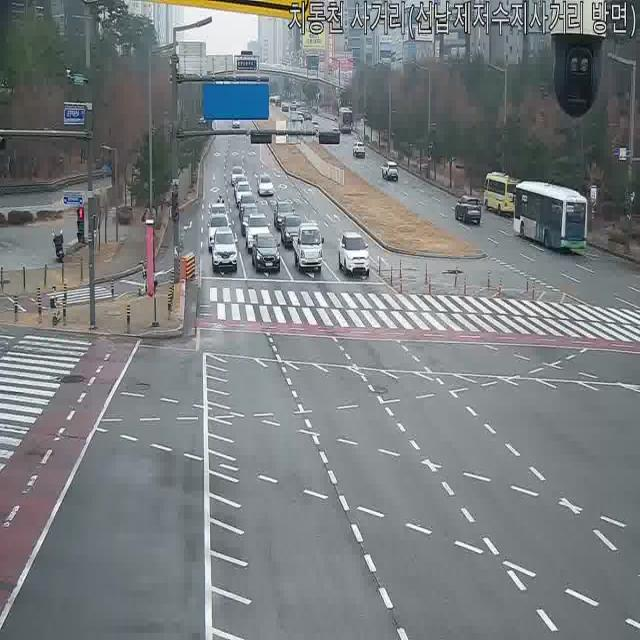Bus: (511, 180, 591, 255), (482, 171, 522, 217), (337, 106, 354, 135)
Car: (338, 230, 370, 278), (210, 228, 238, 274), (251, 232, 281, 274), (244, 213, 271, 252), (206, 214, 232, 251), (280, 215, 306, 249), (454, 196, 482, 226), (274, 200, 296, 231), (239, 207, 263, 235), (208, 201, 230, 231), (239, 193, 258, 220), (235, 181, 252, 207), (256, 175, 274, 198), (230, 165, 246, 188), (381, 161, 399, 181), (353, 140, 365, 158), (292, 110, 303, 124), (308, 121, 319, 135), (268, 93, 279, 105), (302, 108, 312, 120), (281, 101, 291, 113)
Motorcycle: (216, 192, 226, 214)
Truck: (294, 221, 324, 274)
